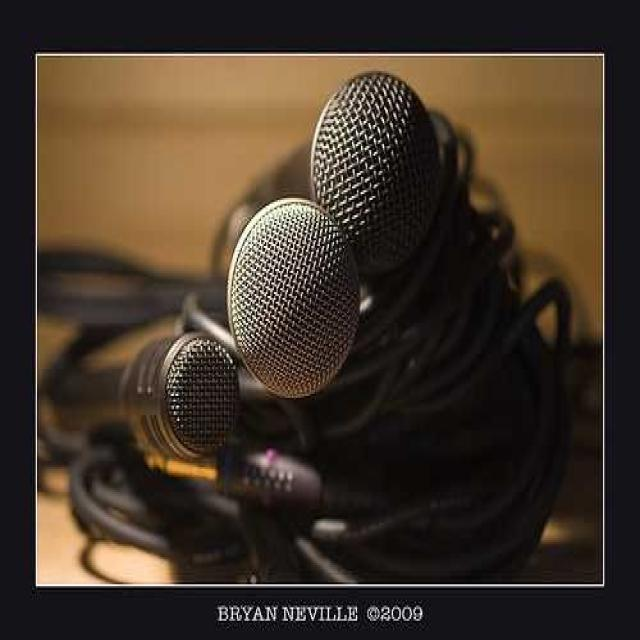microphone: (309, 74, 442, 279), (227, 198, 360, 398), (124, 332, 239, 464)
